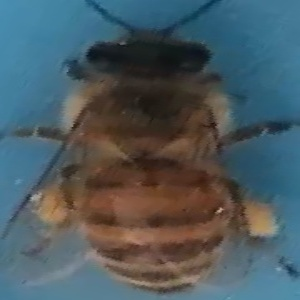bee: (22, 2, 295, 296)
